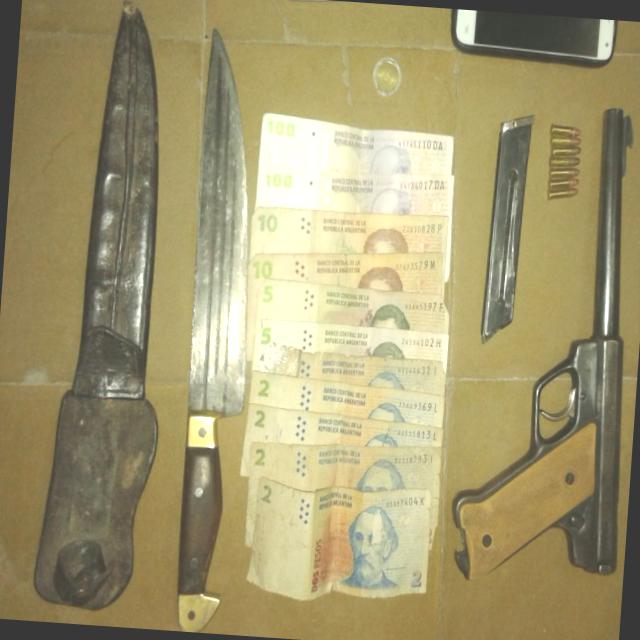knife: (155, 11, 276, 627)
